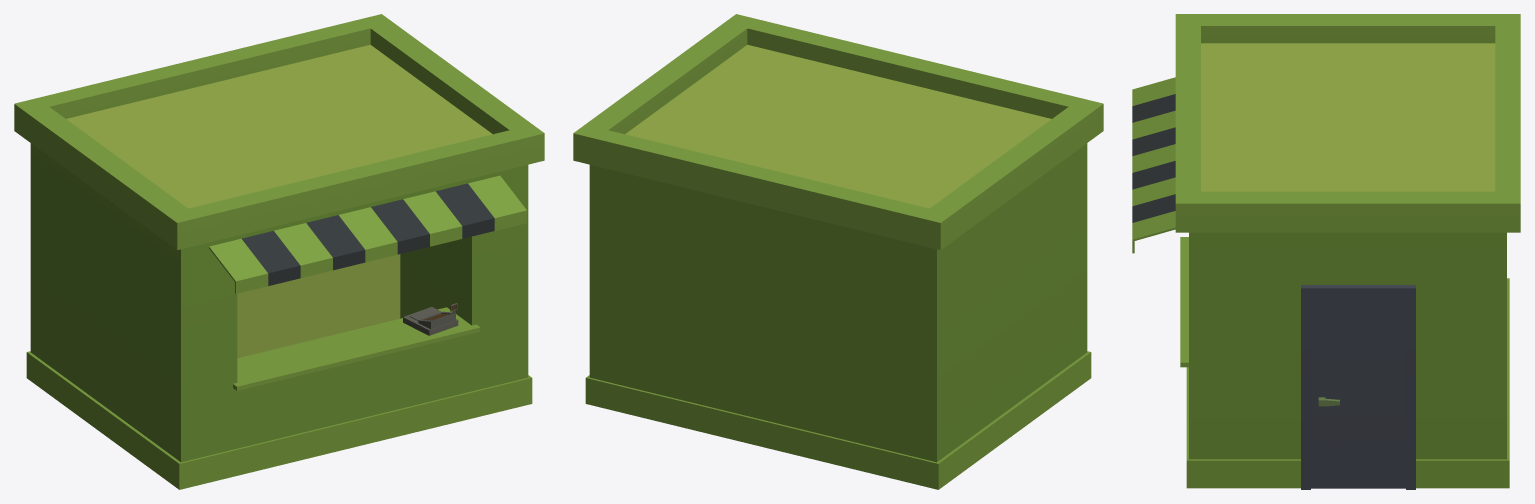
Rendered from SmallMarket_03.fbx.
3 views of the same model, side by side, from view 1: azimuth 30°, elevation 25°; view 2: azimuth 150°, elevation 25°; view 3: azimuth 270°, elevation 25° (orthographic). The views are drawn at different scales.
Parts seen in each view (by area): view 1: SmallMarket_03; view 2: SmallMarket_03; view 3: SmallMarket_03.
Part boxes in pixels (<box>): SmallMarket_03: <box>14,14,544,489</box>; SmallMarket_03: <box>573,14,1103,489</box>; SmallMarket_03: <box>1132,14,1520,489</box>.
Bounding box in the file's own units: 4.24 × 3 × 3.66.
